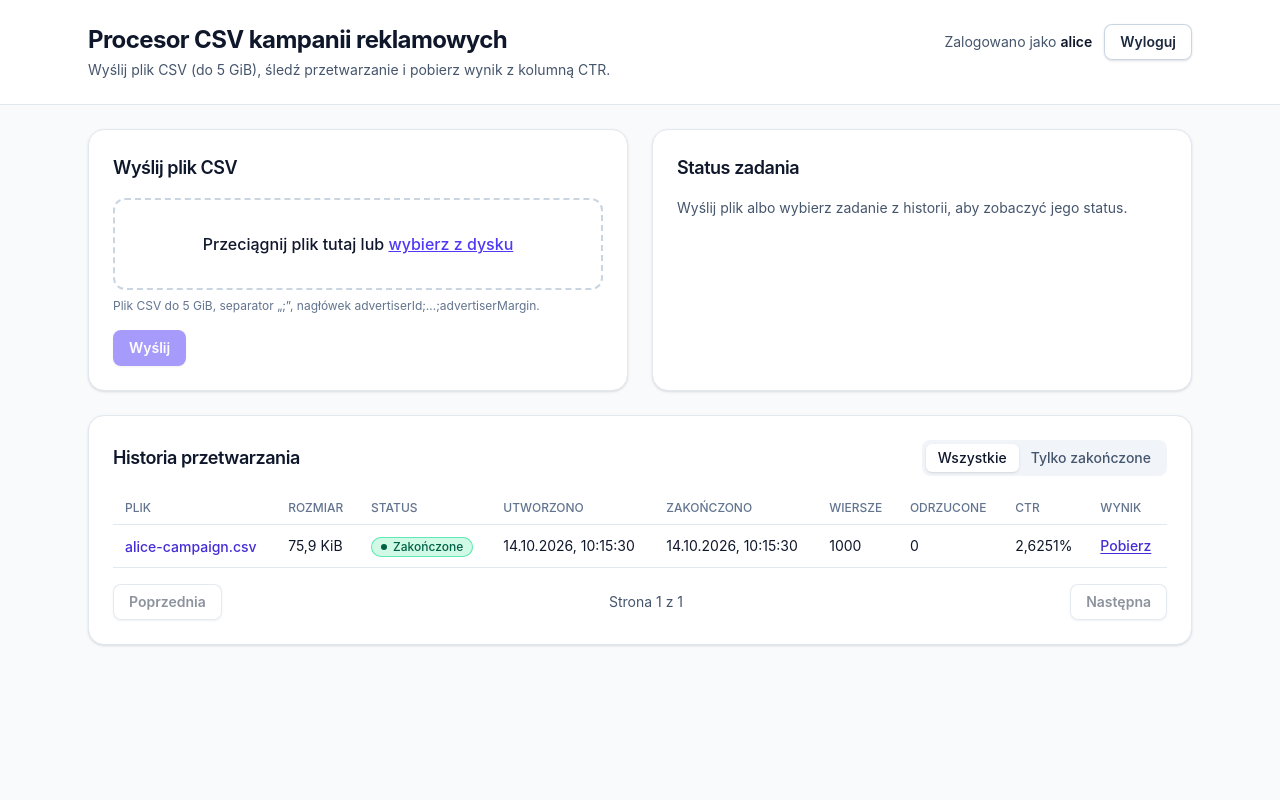
it: App › signs out with the XSRF token and forgets the cached jobs
The width and height of the screenshot is (1280, 800).
Expected: the button "alice-campaign.csv" is shown, [125,537,257,557]
Click the button "Wyloguj": (1148, 42) [1104,24,1192,60]
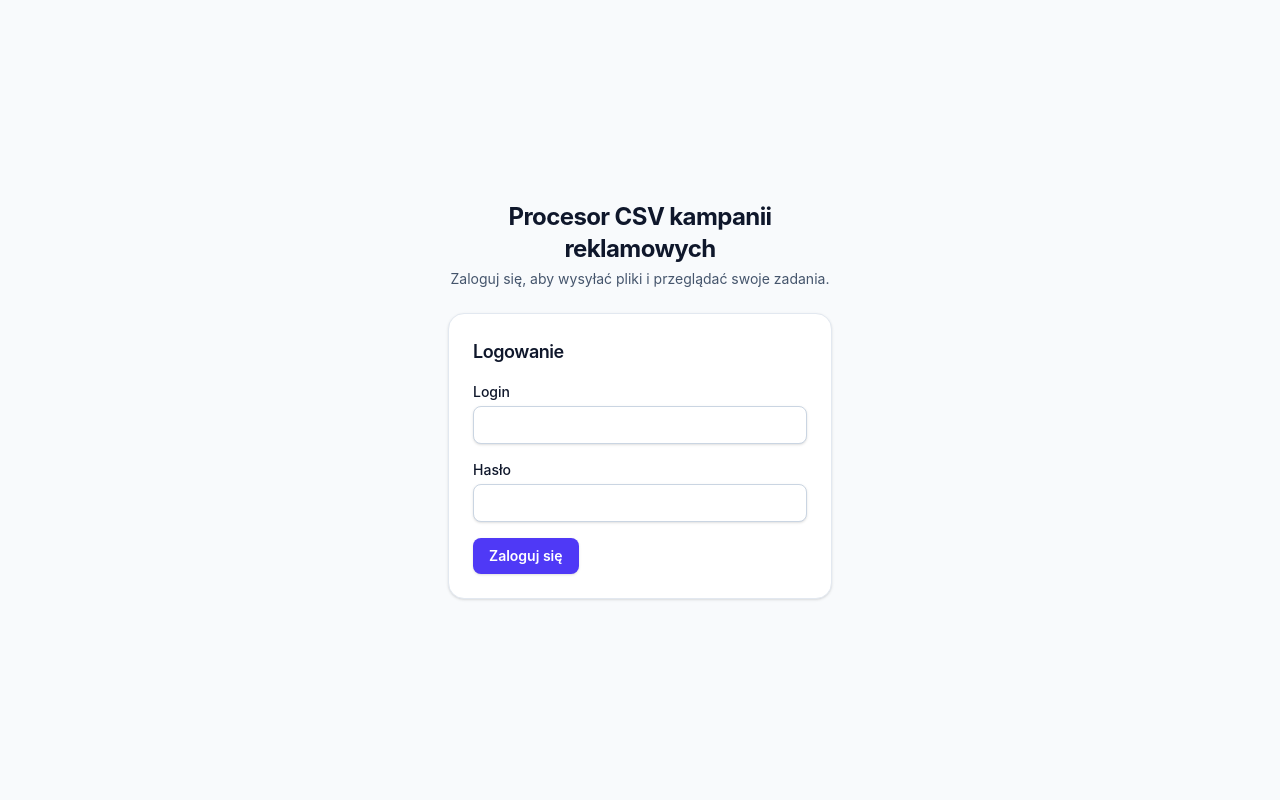
Expected: the heading "Logowanie" is shown, [473,338,564,366]
